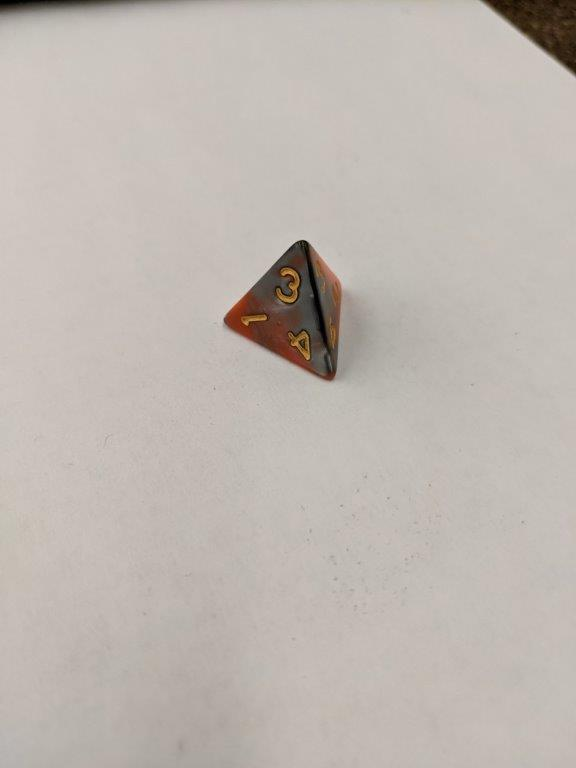d4-3: (214, 238, 347, 386)
